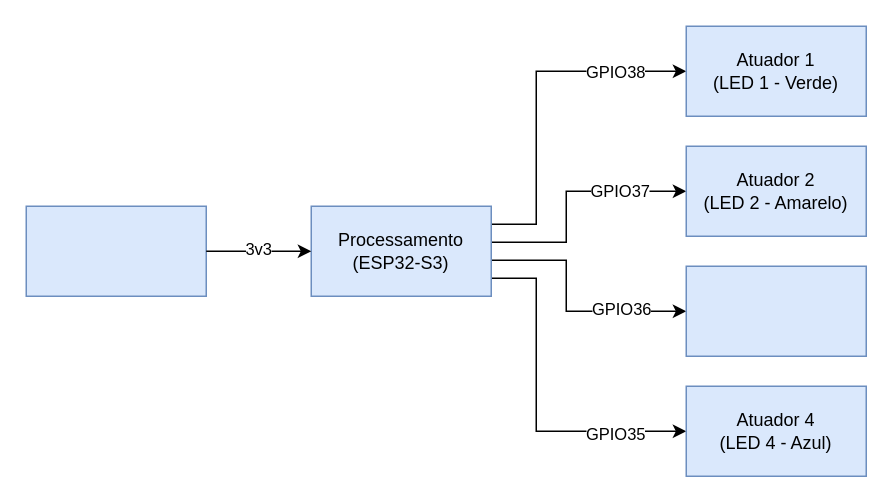
This 893x503 diagram has some shape labels left out. Here are the shapes that lost their labels. From the top down, the centre of each, then its label:
(115,250): Alimentação
(775,310): Atuador 3 (LED 3 - Vermelho)
